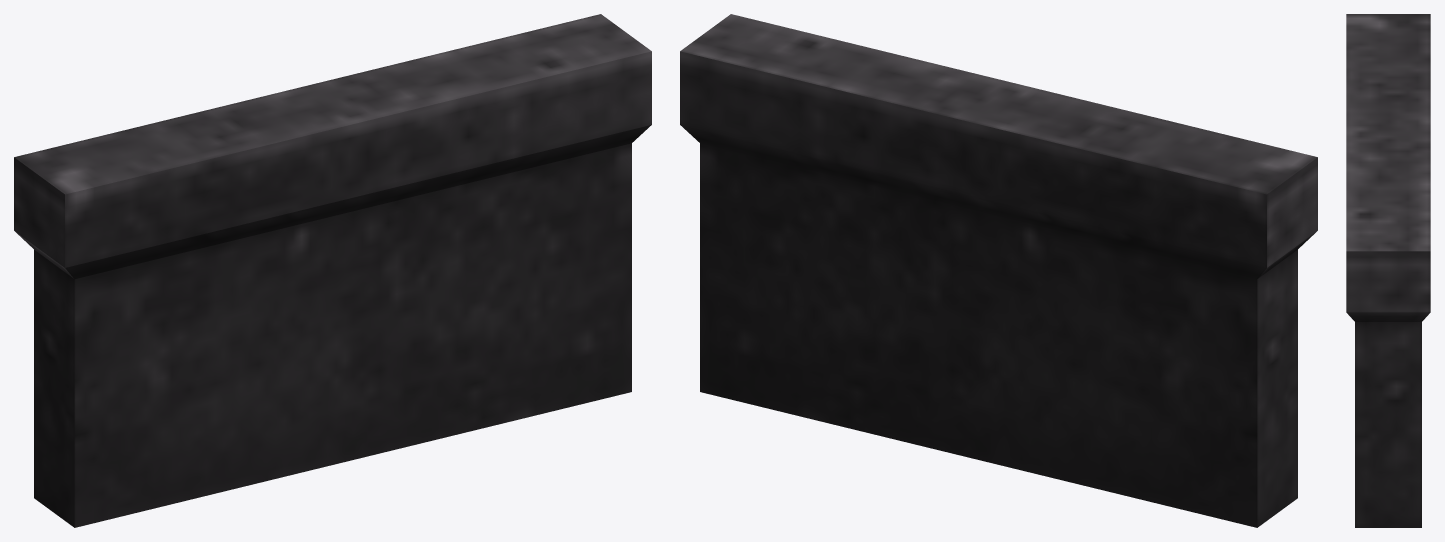
Rendered from SM_zhucheng_shiqiang02.FBX.
3 renders of one model, left to right at view 1: azimuth 30°, elevation 25°; view 2: azimuth 150°, elevation 25°; view 3: azimuth 270°, elevation 25°, orthographic. The views are drawn at different scales.
Parts seen in each view (by area): view 1: SM_zhucheng_shiqiang02; view 2: SM_zhucheng_shiqiang02; view 3: SM_zhucheng_shiqiang02.
Part boxes in pixels (left/top/right/bottom): SM_zhucheng_shiqiang02: left=14, top=14, right=651, bottom=527; SM_zhucheng_shiqiang02: left=680, top=14, right=1317, bottom=527; SM_zhucheng_shiqiang02: left=1346, top=14, right=1430, bottom=527.
Size of the model in its own units: 437 by 242 by 65.72.
